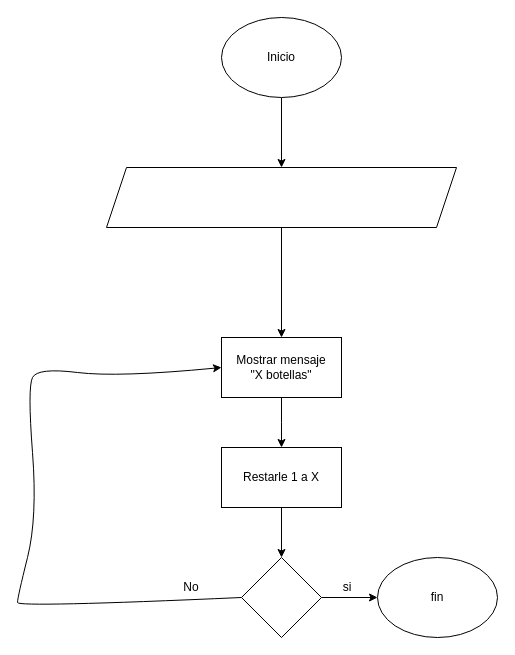
Image size: 515x655. Some labels were removed from this diagram. Each missing label, with the centre of its shape:
"X cantidad de botellas (en este caso x = 99)" goes at point 281,197.
"¿X es 0?" goes at point 281,597.
